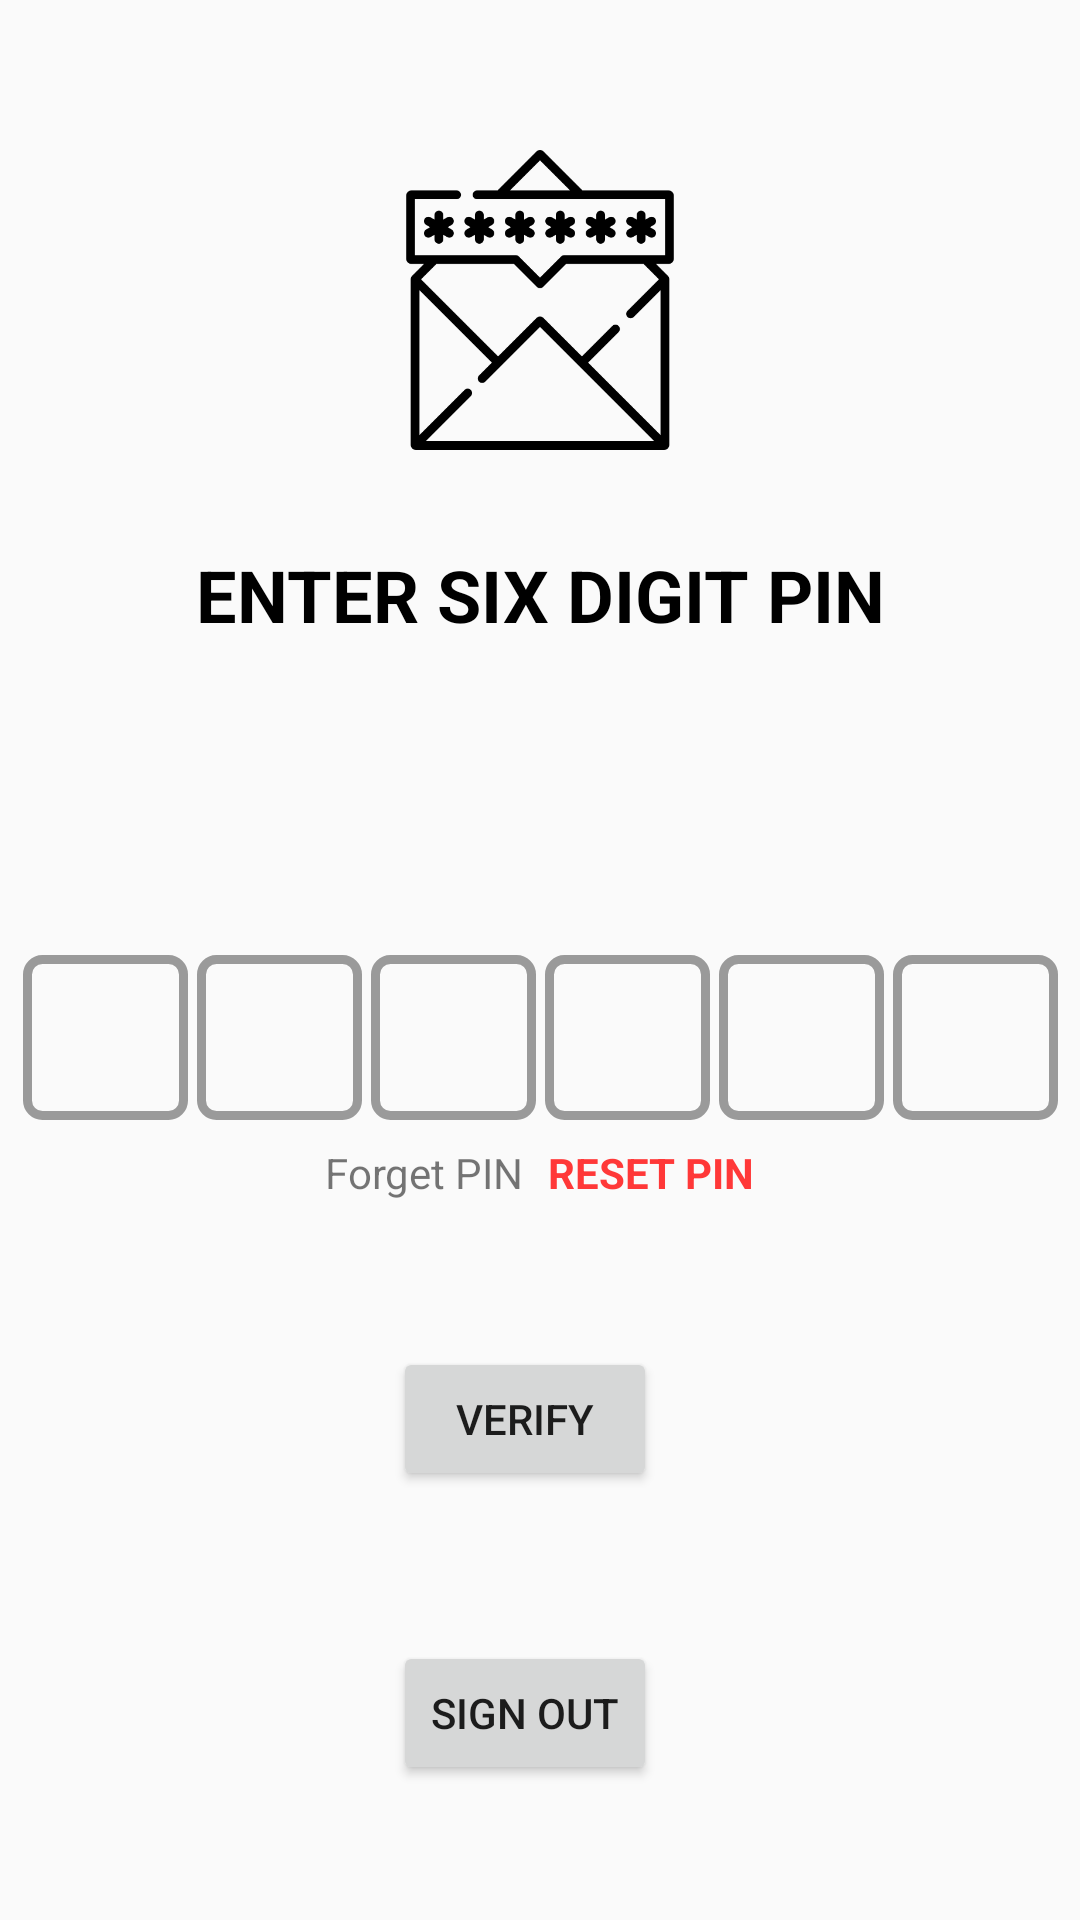

Icon bounding boxes for this 1080 x 1920 phone screenshot, format (x1, y1, x2, y2):
otp: (406, 150, 674, 450)
